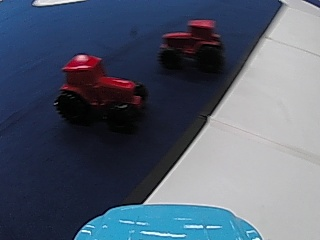tractor: (53, 50, 149, 128), (157, 17, 226, 73)
